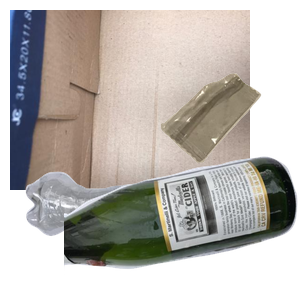cardboard: (10, 10, 250, 190)
glass: (64, 154, 300, 300)
plastic: (23, 169, 243, 300)
trash: (158, 71, 300, 227)
